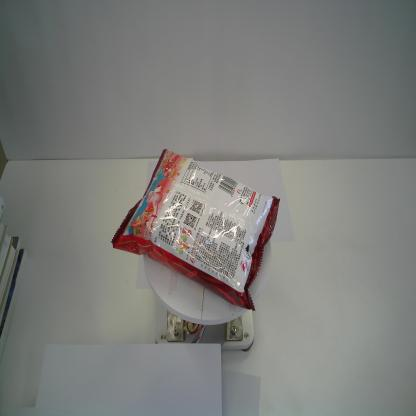Puffed Food: (111, 148, 281, 312)
